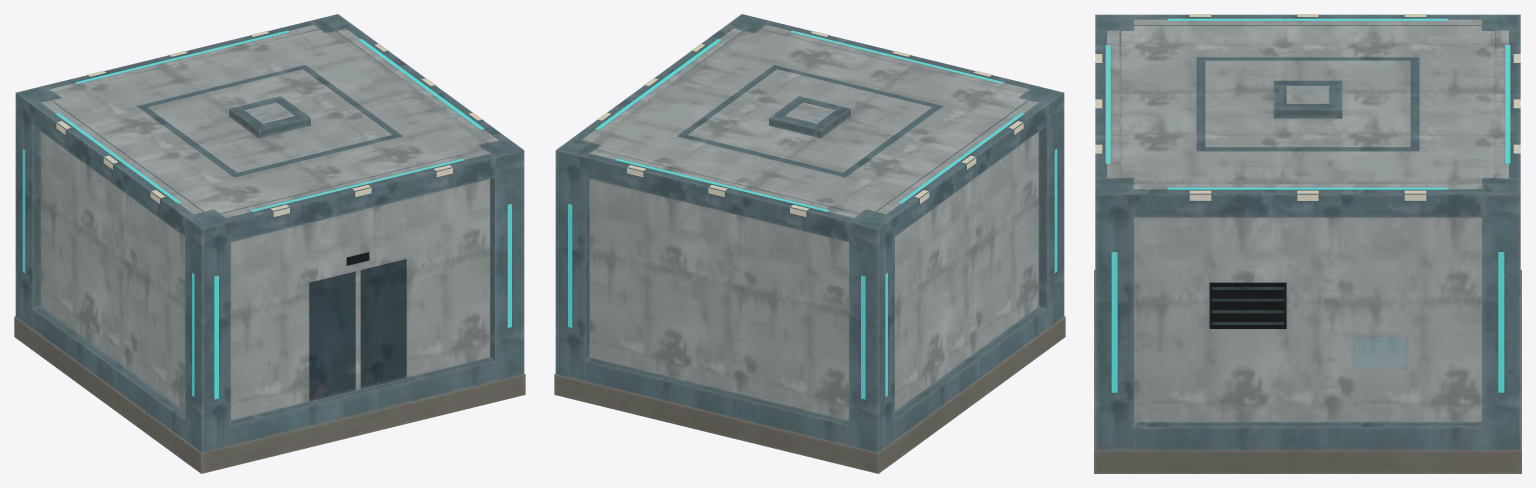
The model's file is hull_standard_closed.glb.
3 renders of one model, left to right at view 1: azimuth 30°, elevation 25°; view 2: azimuth 150°, elevation 25°; view 3: azimuth 270°, elevation 25°, orthographic. The views are drawn at different scales.
Parts seen in each view (by area): view 1: te_hull_standard_closed; view 2: te_hull_standard_closed; view 3: te_hull_standard_closed.
Boxes of the visible parts, left/top/right/bottom form: te_hull_standard_closed: left=14, top=14, right=525, bottom=473; te_hull_standard_closed: left=554, top=14, right=1065, bottom=473; te_hull_standard_closed: left=1094, top=14, right=1521, bottom=473.
Bounding box in the file's own units: 1 × 0.7446 × 1.
Materials: 1 (1 with a texture image).
